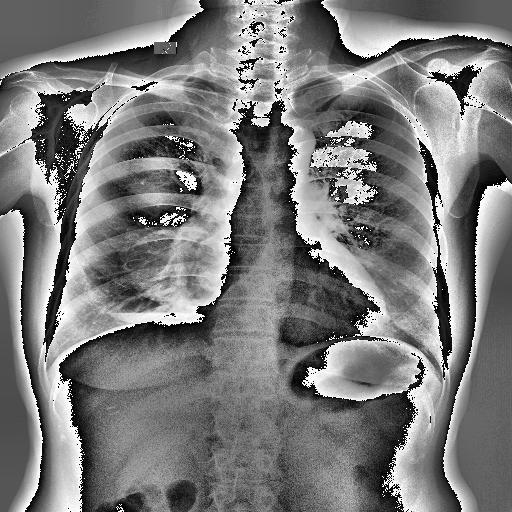13- Pulmonary fibrosis: (110, 312, 204, 320)
7- Lung Opacity: (124, 224, 224, 304)
9- Other lesion: (73, 109, 268, 323), (98, 102, 198, 228), (111, 308, 195, 324), (110, 312, 204, 320)
